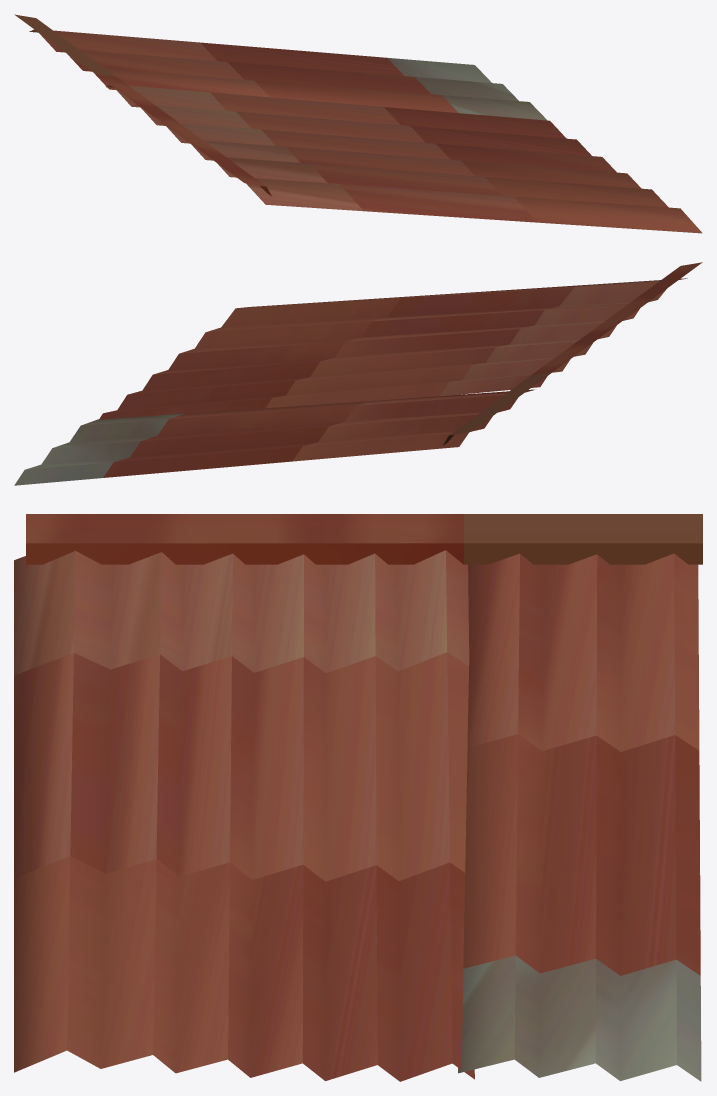
The model's file is SM_Metal_Plate_01.fbx.
3 views of the same model, one above another, from view 1: azimuth 30°, elevation 25°; view 2: azimuth 150°, elevation 25°; view 3: azimuth 270°, elevation 25° (orthographic). The views are drawn at different scales.
Visible parts, largest first — view 1: niche.001; view 2: niche.001; view 3: niche.001.
Boxes of the visible parts, <box> form: niche.001: <box>14,14,702,233</box>; niche.001: <box>14,262,702,485</box>; niche.001: <box>14,514,702,1081</box>.
Size of the model in its own units: 44.34 by 15.34 by 39.57.
